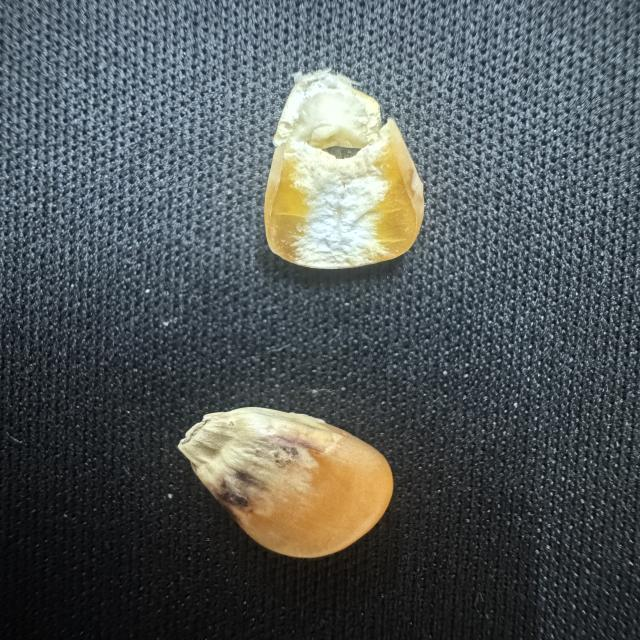Bad-Seed: (256, 63, 432, 272), (170, 401, 398, 562)
